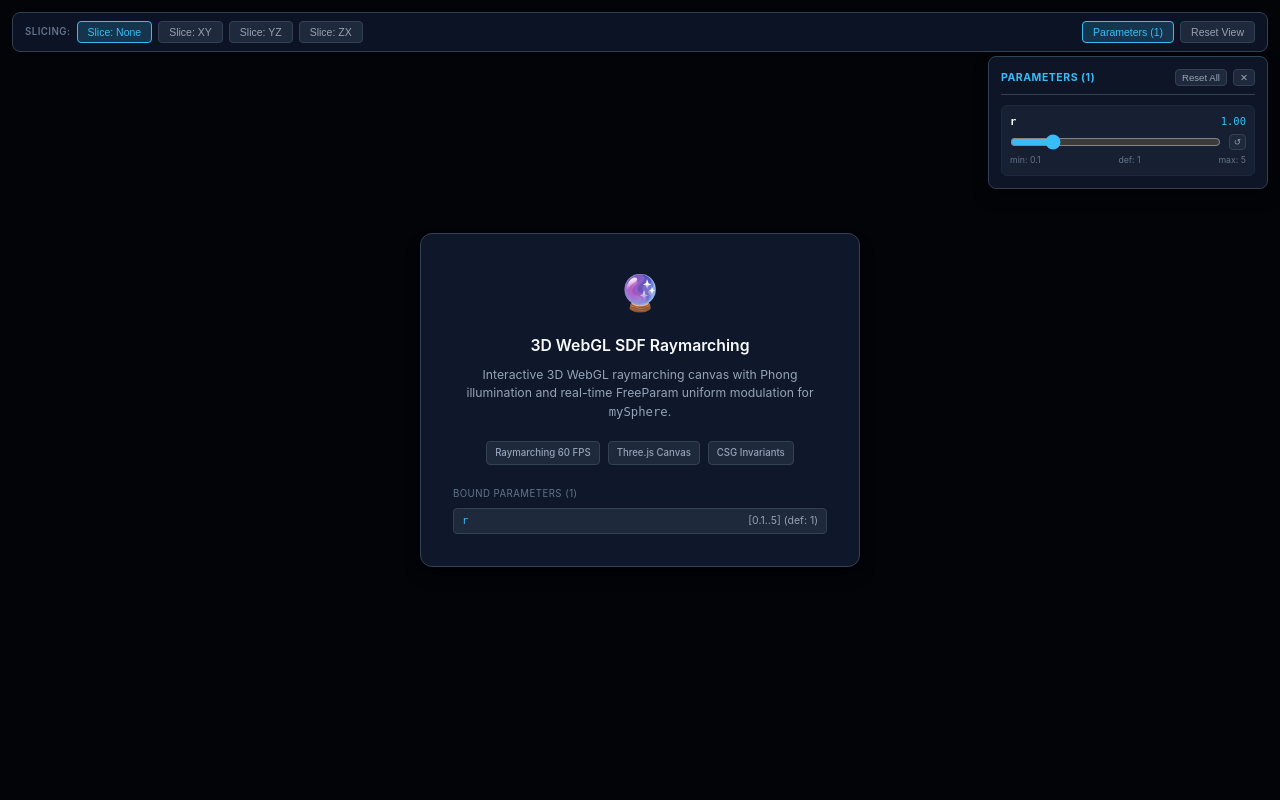
it: SDFRaymarchWidget Component › supports toggling the in-viewport parameter scrubber drawer overlay
Expected: the element with test id "sdf-param-overlay" is shown, top-left (988, 56), bottom-right (1268, 189)
# Close via close button in overlay header
Step 1. Click the button with test id "close-parameters-btn" → (1244, 78), box top-left (1233, 69), bottom-right (1255, 86)
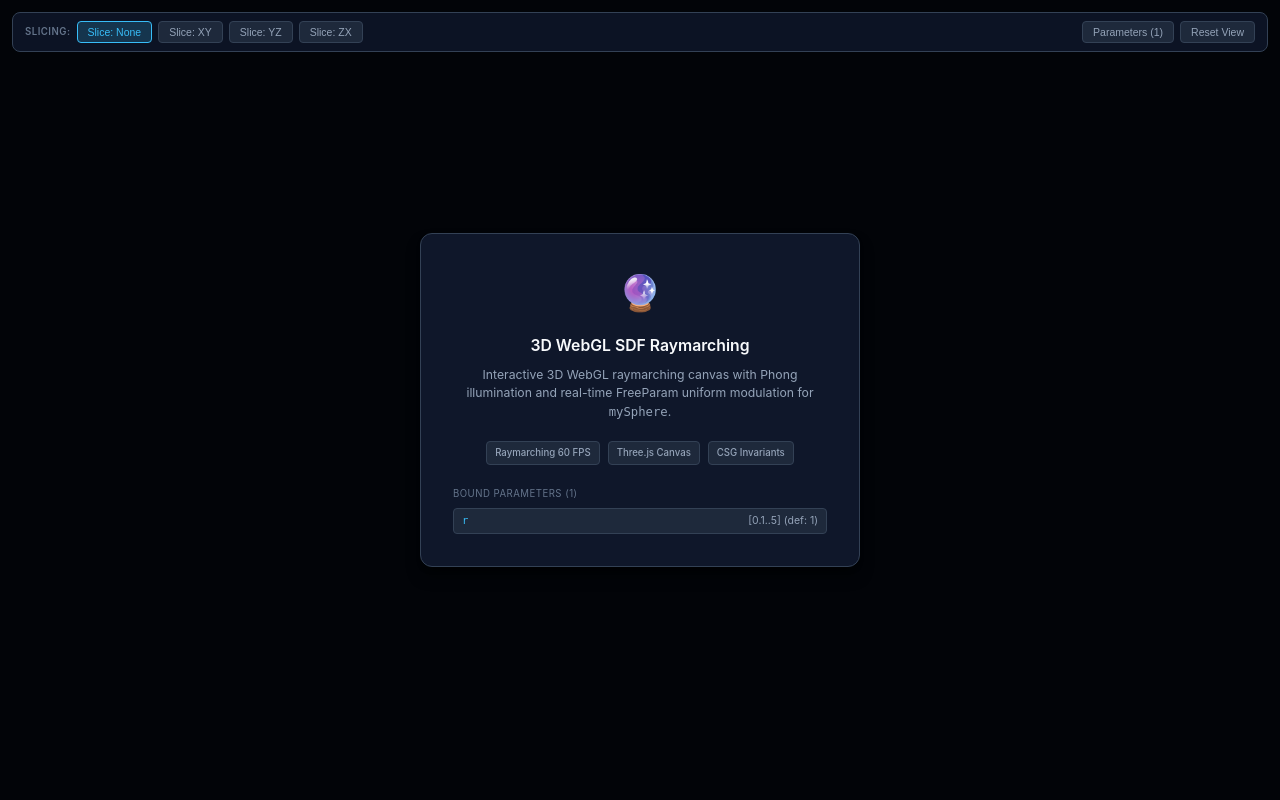
Expected: the element with test id "sdf-param-overlay" is gone
# Reopen via toolbar button
Step 2. Click the button with test id "toggle-parameters-btn" → (1128, 32), box top-left (1082, 21), bottom-right (1174, 43)
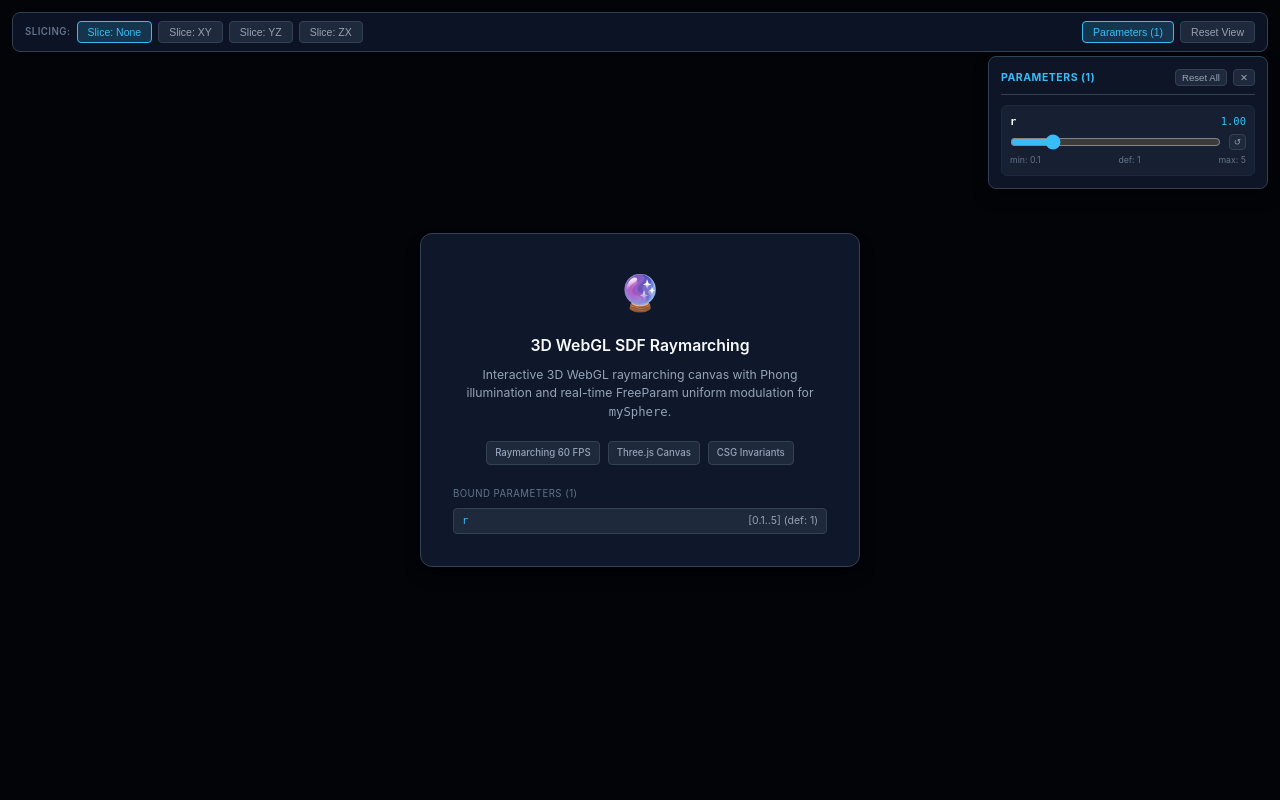
Expected: the element with test id "sdf-param-overlay" is shown, top-left (988, 56), bottom-right (1268, 189)
